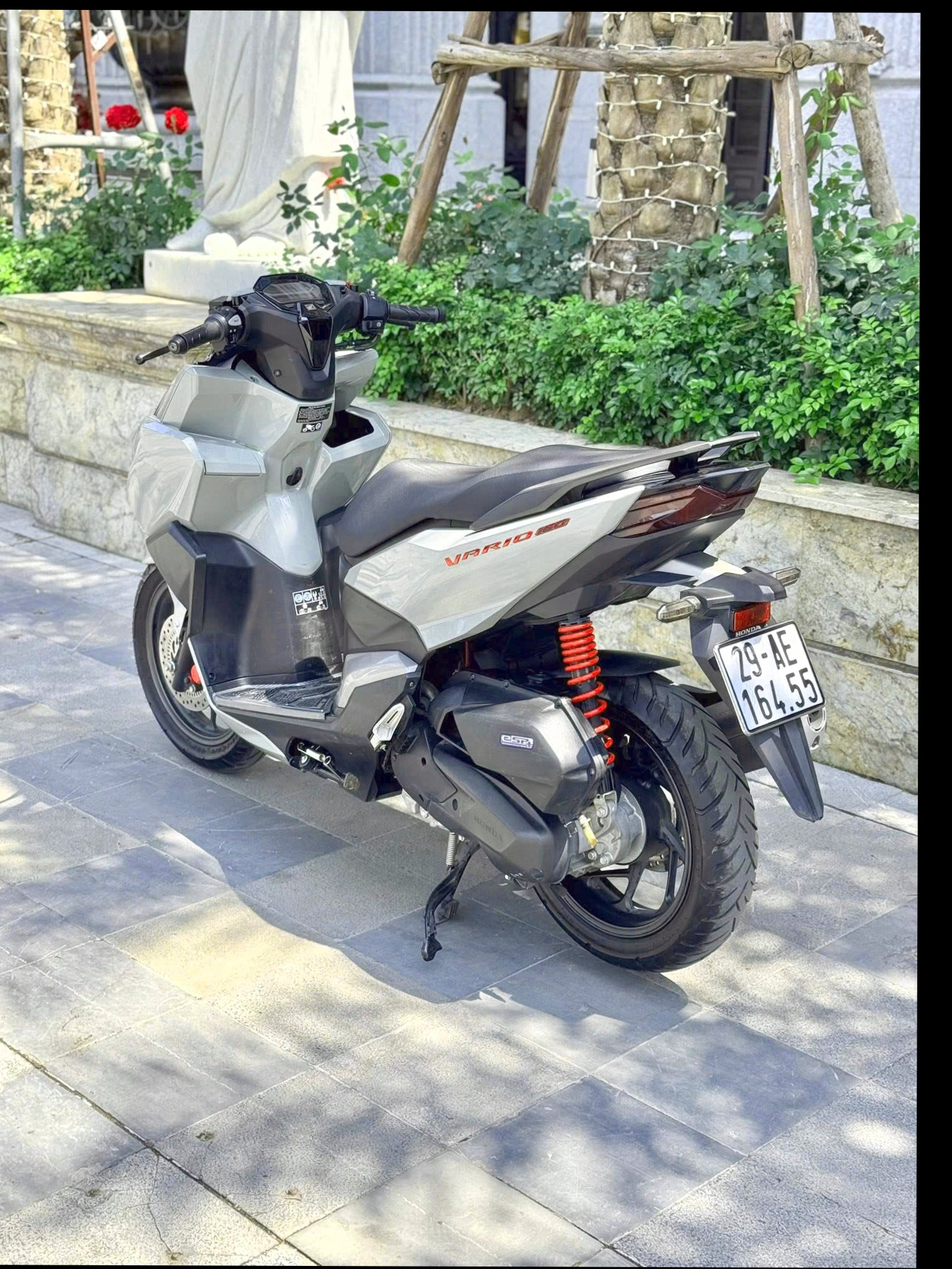Bien-so: (739, 670, 870, 796)
